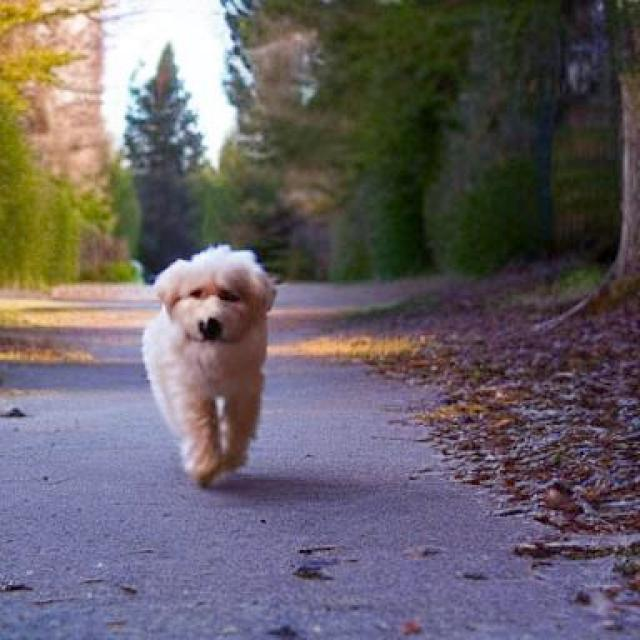Dog: (142, 243, 277, 488)
